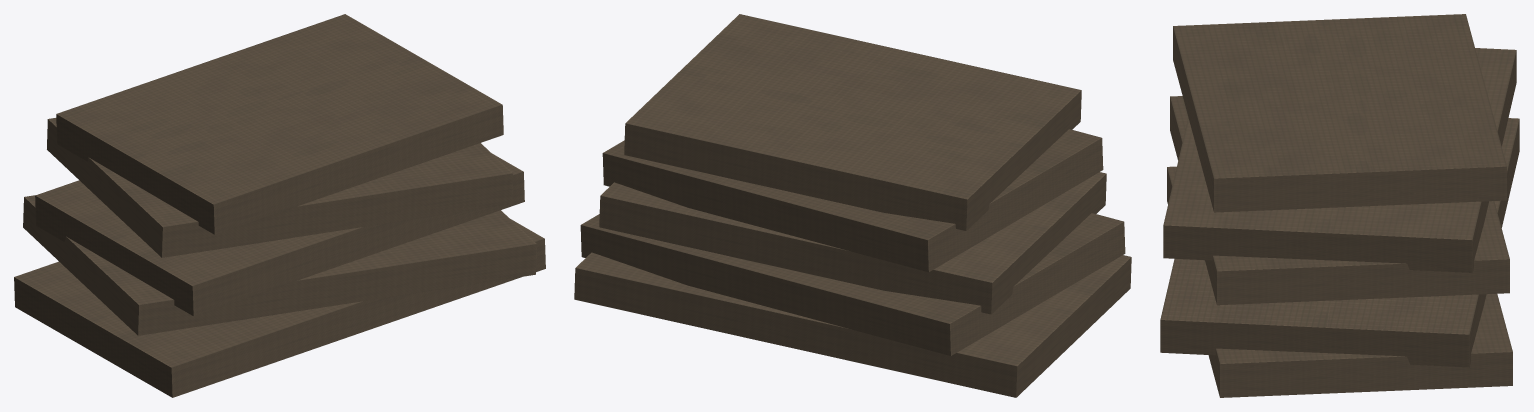
File: pr-013_cloth_bundle__medium.obj
3 views of the same model, side by side, from view 1: azimuth 30°, elevation 25°; view 2: azimuth 150°, elevation 25°; view 3: azimuth 270°, elevation 25° (orthographic). The views are drawn at different scales.
Parts seen in each view (by area): view 1: pr-013_cloth_bundle__medium; view 2: pr-013_cloth_bundle__medium; view 3: pr-013_cloth_bundle__medium.
Part boxes in pixels (bbox=[...]): pr-013_cloth_bundle__medium: bbox=[14, 14, 545, 397]; pr-013_cloth_bundle__medium: bbox=[574, 14, 1131, 397]; pr-013_cloth_bundle__medium: bbox=[1160, 14, 1519, 397].
Size of the model in its own units: 0.6554 by 0.3561 by 0.4391.
Materials: 2 (2 with a texture image).
